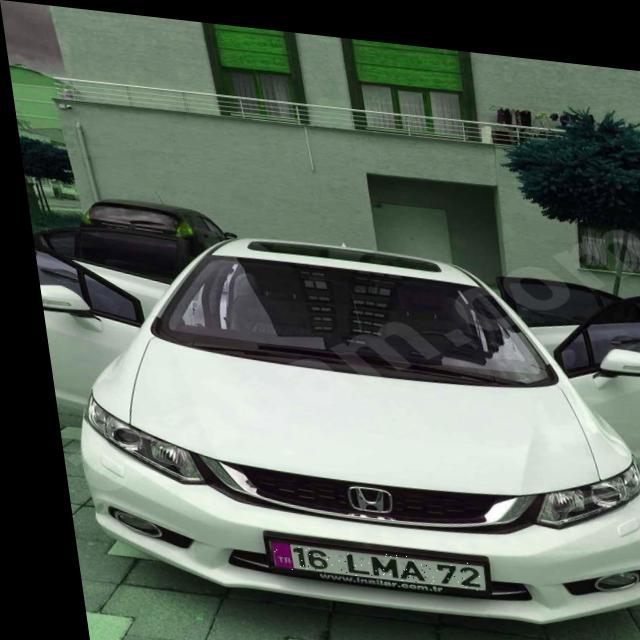license_plate: (252, 536, 473, 582)
